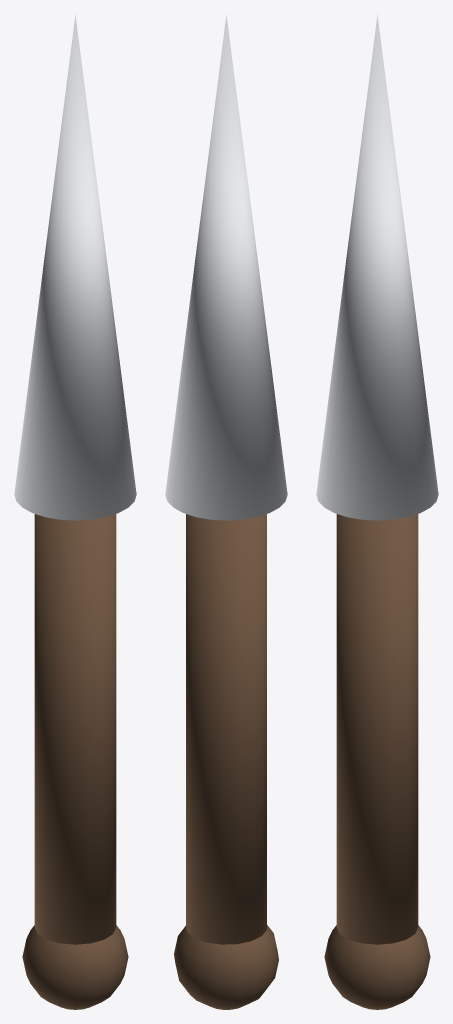
The model's file is test_knife.glb.
3 views of the same model, side by side, from view 1: azimuth 90°, elevation 25°; view 2: azimuth 150°, elevation 25°; view 3: azimuth 270°, elevation 25° (orthographic).
Parts seen in each view (by area): view 1: TestKnife; view 2: TestKnife; view 3: TestKnife.
Part boxes in pixels (x1=…): TestKnife: x1=14, y1=14, x2=136, y2=1009; TestKnife: x1=165, y1=14, x2=287, y2=1009; TestKnife: x1=316, y1=14, x2=438, y2=1009.
Size of the model in its own units: 0.03 by 0.268 by 0.03.
